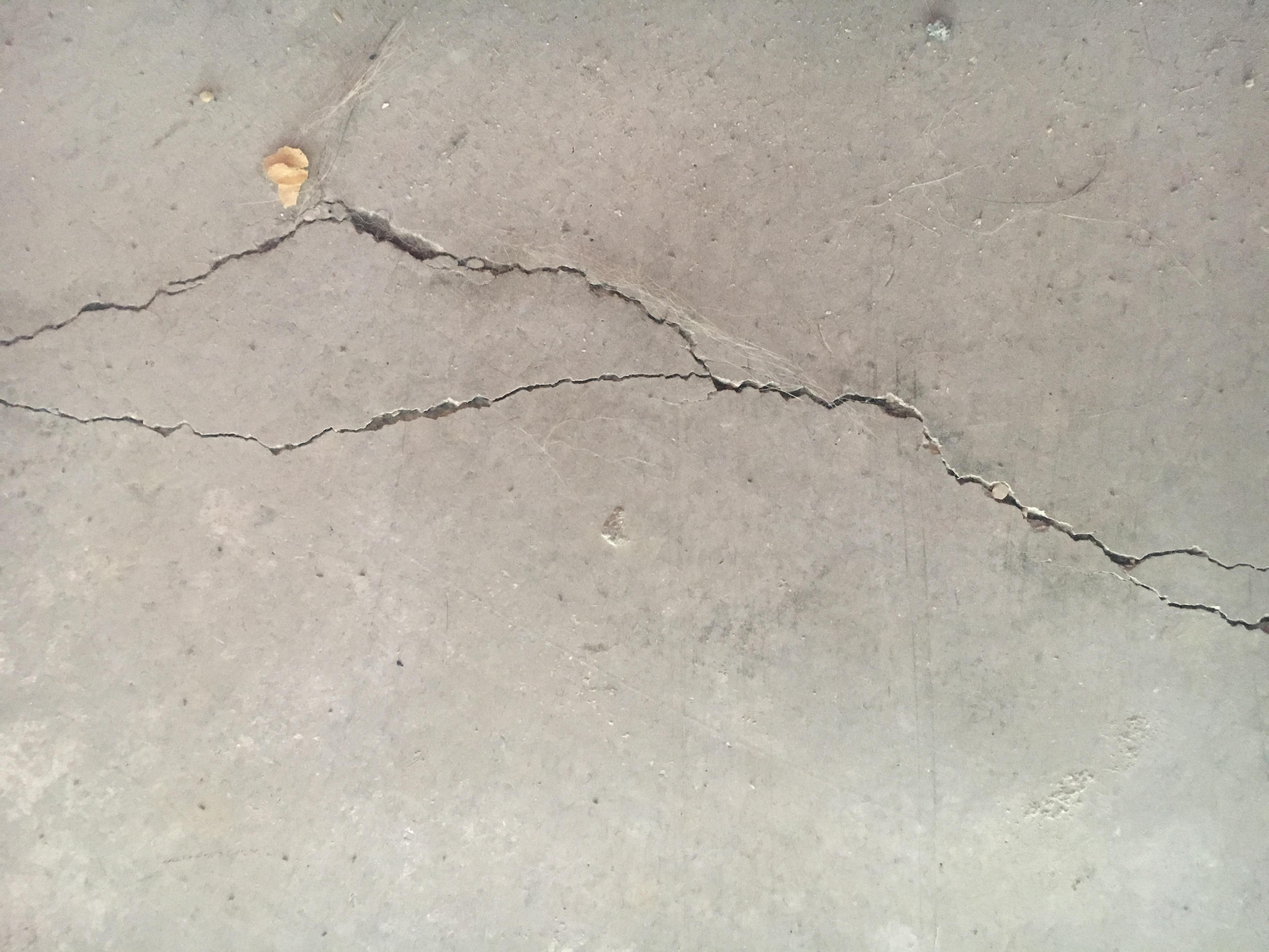Structural-Crack: (2, 195, 1265, 638)
